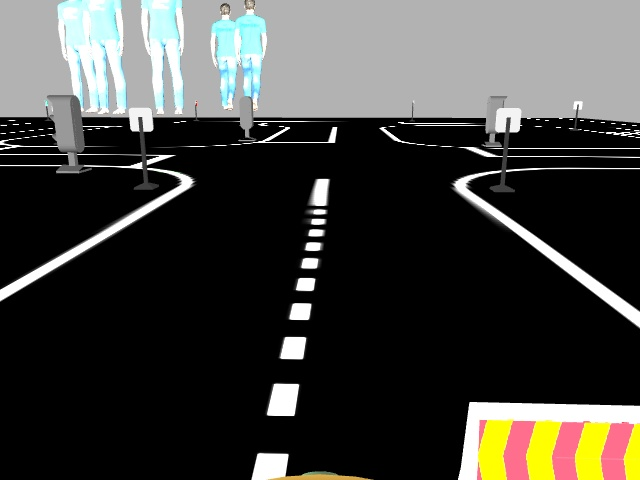ClosedRoadStand: (469, 400, 639, 479)
